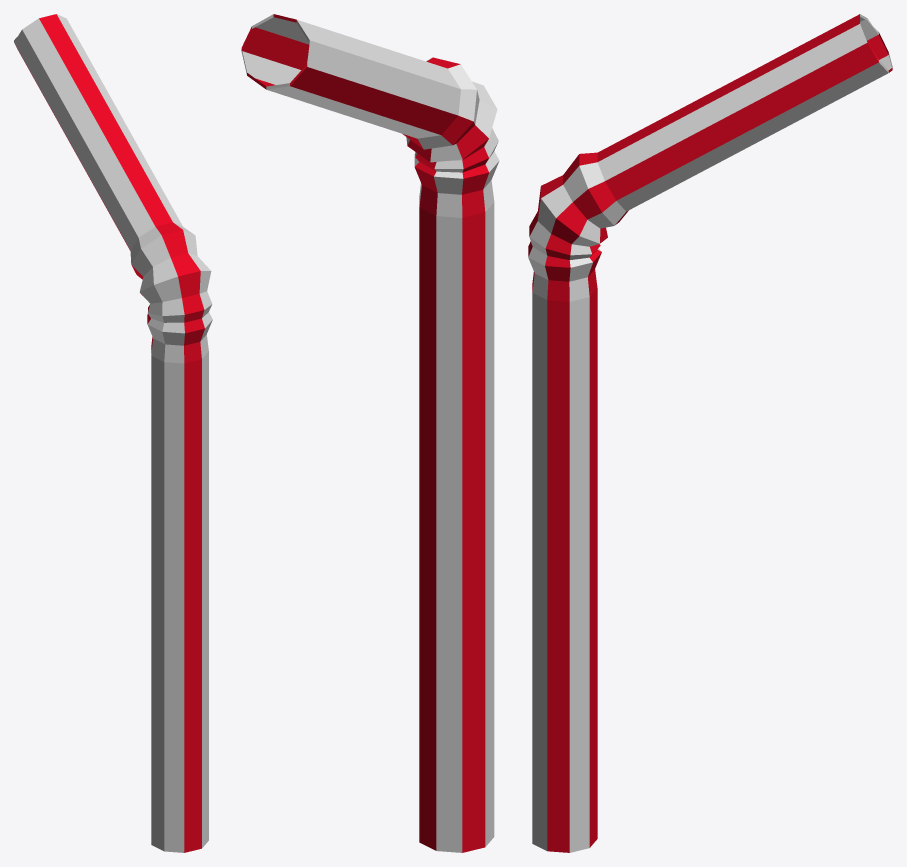
Rendered from drinking_straw.glb.
3 renders of one model, left to right at view 1: azimuth 30°, elevation 25°; view 2: azimuth 150°, elevation 25°; view 3: azimuth 270°, elevation 25°, orthographic. The views are drawn at different scales.
Visible parts, largest first — view 1: Cylinder; view 2: Cylinder; view 3: Cylinder.
Part boxes in pixels (<box>): Cylinder: <box>14,14,212,852</box>; Cylinder: <box>241,14,499,852</box>; Cylinder: <box>528,14,892,852</box>.
Size of the model in its own units: 1.4 by 14.88 by 5.99.
